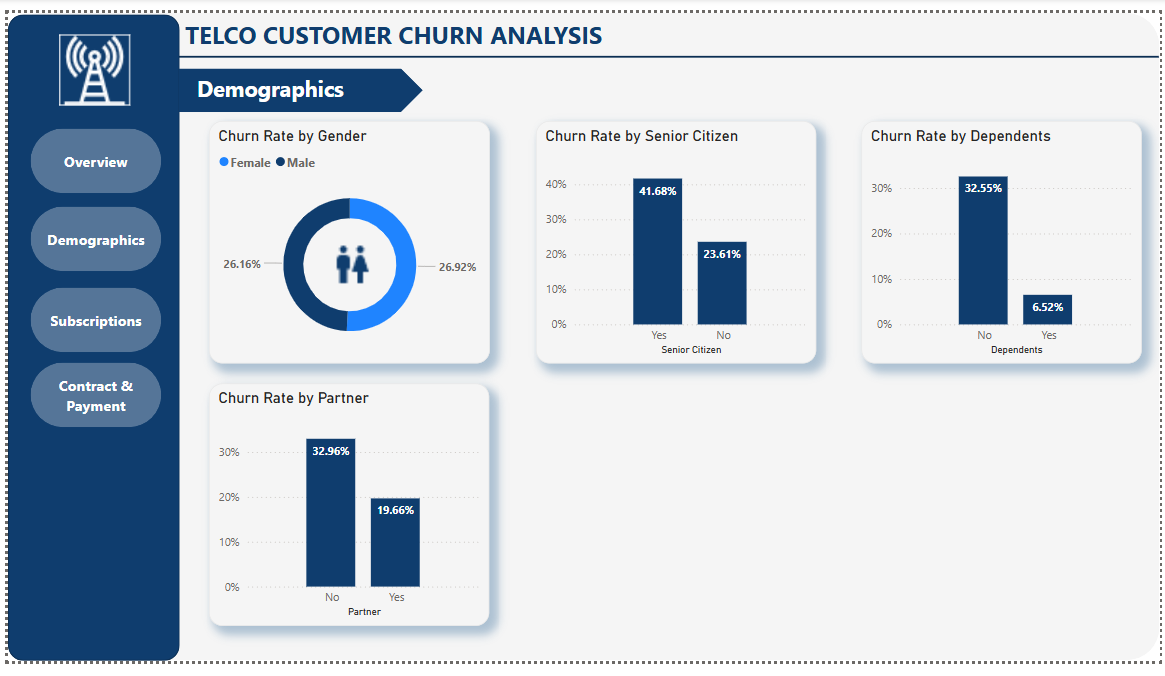

The page's visual inventory and layout, read from the dashboard file:
{"tool":"powerbi","page":{"name":"Demographics","canvas":[1280,720],"ordinal":1},"visuals":[{"type":"shape","title":"Background","box":[0,0,1279.5,719.2],"z":0},{"type":"shape","title":"Nav Pane","box":[0,1.5,190.8,717.7],"z":1000},{"type":"shape","title":"Line","box":[190.8,34.8,1088.7,27.3],"z":2000},{"type":"textbox","box":[192.3,0,490.6,45.4],"z":3000},{"type":"actionButton","title":"Overview","box":[24.2,128.2,145.4,72],"z":4000},{"type":"actionButton","title":"Demographics button","box":[24.2,214.5,145.4,72],"z":5000},{"type":"actionButton","title":"Subscriptions button","box":[24.2,305.4,145.4,72],"z":6000},{"type":"actionButton","title":"Contract terms button","box":[24.2,389.2,145.4,72],"z":7000},{"type":"shape","title":"Overview shape","box":[190.8,62.1,271,48.5],"z":8000},{"type":"textbox","box":[204.6,61.4,216.3,48.2],"z":9000},{"type":"donutChart","fields":{"Category":["Telco_Churn.Gender"],"Y":["Telco_Churn.Churn Rate"]},"box":[224.1,120.2,311.9,269.5],"z":10000},{"type":"image","box":[351.3,245.3,60.6,68.1],"z":11000},{"type":"columnChart","fields":{"Category":["Telco_Churn.Senior Citizen"],"Y":["Telco_Churn.Churn Rate"]},"box":[586,120.2,311,269.5],"z":12000},{"type":"columnChart","fields":{"Category":["Telco_Churn.Dependents"],"Y":["Telco_Churn.Churn Rate"]},"box":[947.9,120.2,311,269.5],"z":13000},{"type":"columnChart","fields":{"Category":["Telco_Churn.Partner"],"Y":["Telco_Churn.Churn Rate"]},"box":[224.1,410.9,311,269],"z":14000},{"type":"image","box":[39.4,18.2,112.1,89.3],"z":15000}]}

Visuals, with their boxes on the page's 1280x720 design canvas (x1, y1, x2, y2). These are canvas units, not pixel positions in the 1165x676 screenshot, which may show the page scaled, cropped or inside an application window:
"Background" shape: box(0, 0, 1280, 719)
"Nav Pane" shape: box(0, 2, 191, 719)
"Line" shape: box(191, 35, 1280, 62)
textbox: box(192, 0, 683, 45)
"Overview" actionButton: box(24, 128, 170, 200)
"Demographics button" actionButton: box(24, 214, 170, 286)
"Subscriptions button" actionButton: box(24, 305, 170, 377)
"Contract terms button" actionButton: box(24, 389, 170, 461)
"Overview shape" shape: box(191, 62, 462, 111)
textbox: box(205, 61, 421, 110)
donutChart - Telco_Churn.Gender x Telco_Churn.Churn Rate: box(224, 120, 536, 390)
image: box(351, 245, 412, 313)
columnChart - Telco_Churn.Senior Citizen x Telco_Churn.Churn Rate: box(586, 120, 897, 390)
columnChart - Telco_Churn.Dependents x Telco_Churn.Churn Rate: box(948, 120, 1259, 390)
columnChart - Telco_Churn.Partner x Telco_Churn.Churn Rate: box(224, 411, 535, 680)
image: box(39, 18, 152, 108)
